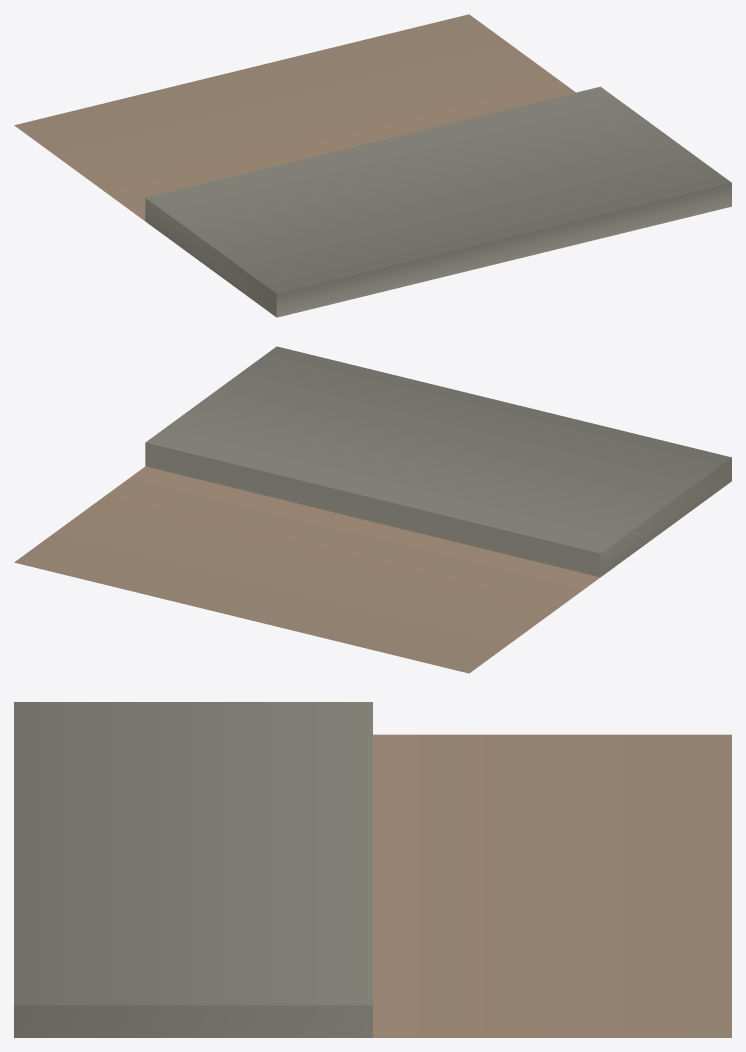
File: road-dirt-side.glb
3 views of the same model, one above another, from view 1: azimuth 30°, elevation 25°; view 2: azimuth 150°, elevation 25°; view 3: azimuth 270°, elevation 25° (orthographic). The views are drawn at different scales.
Visible parts, largest first — view 1: road-dirt-side; view 2: road-dirt-side; view 3: road-dirt-side.
Boxes of the visible parts, left/top/right/bottom form: road-dirt-side: left=14, top=14, right=731, bottom=317; road-dirt-side: left=14, top=346, right=731, bottom=673; road-dirt-side: left=14, top=702, right=731, bottom=1037.
Bounding box in the file's own units: 1 × 0.05 × 1.
